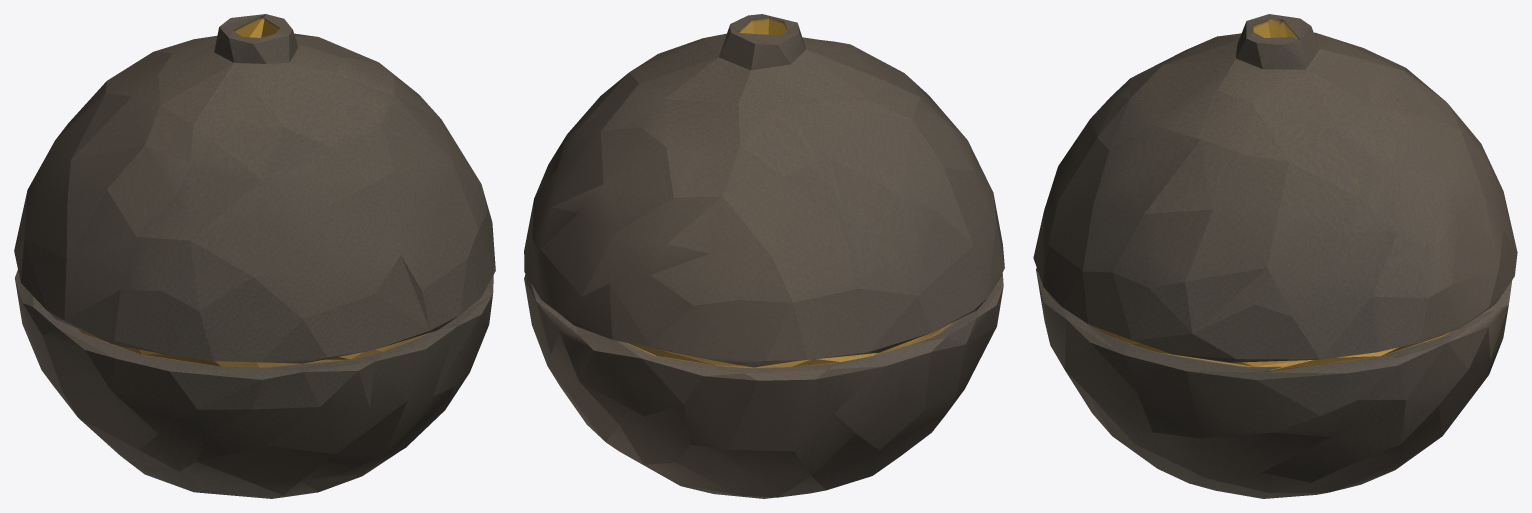
File: projectile-ironshot.glb
The picture shows the model from 3 angles, left to right: view 1: azimuth 30°, elevation 25°; view 2: azimuth 150°, elevation 25°; view 3: azimuth 270°, elevation 25°; orthographic projection.
Bounding box in the file's own units: 1.88 × 1.9 × 1.89.
Materials: 1 (1 with a texture image).
